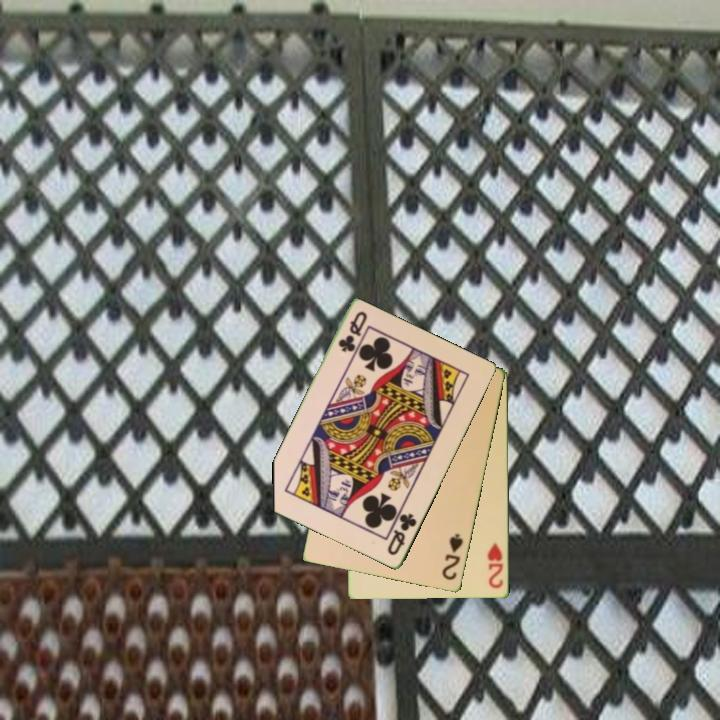2h: (484, 540, 506, 591)
2s: (439, 530, 466, 583)
Qc: (384, 510, 420, 559), (335, 308, 370, 356)
